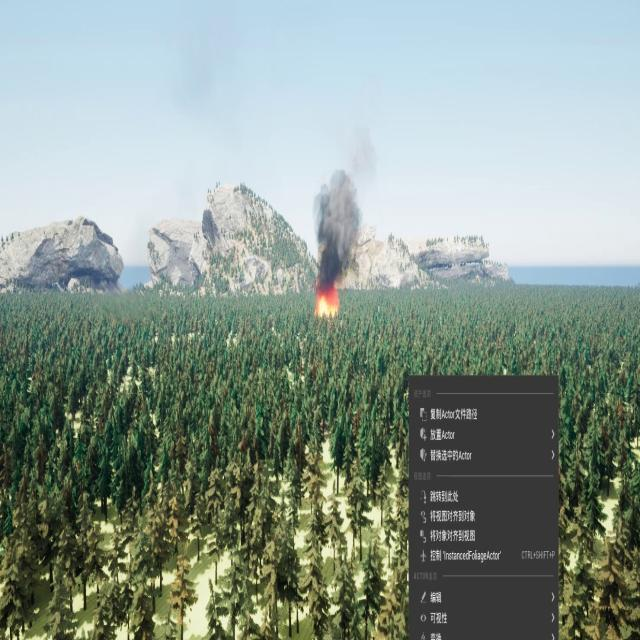fire: (310, 282, 339, 314)
smoke: (312, 169, 360, 278)
